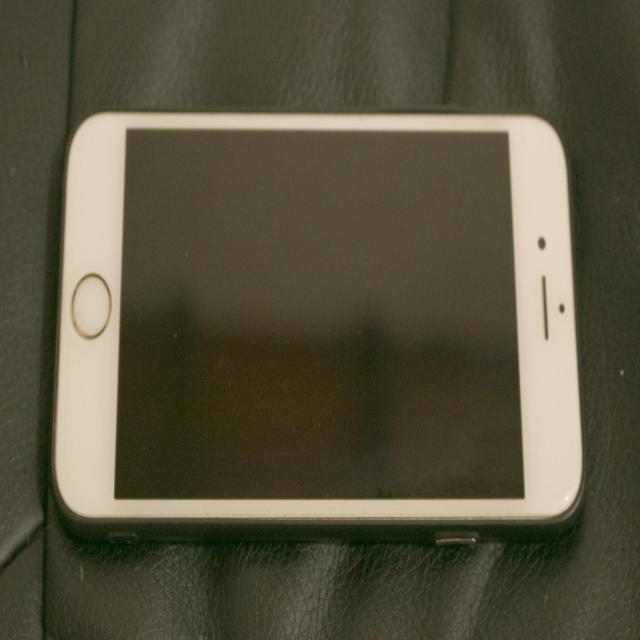Phone: (47, 109, 589, 547)
